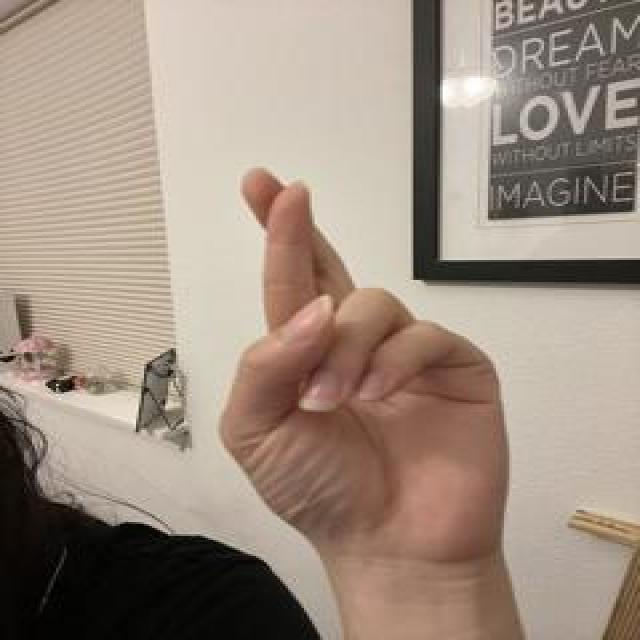R: (213, 162, 523, 598)
